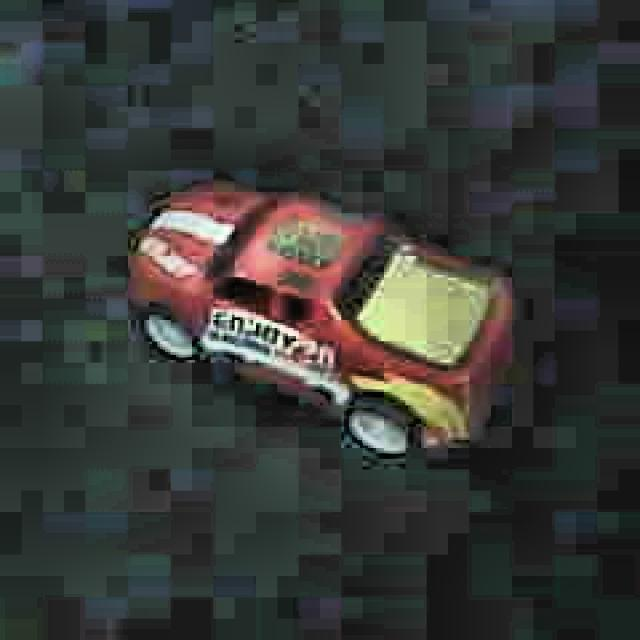car: (122, 179, 524, 468)
